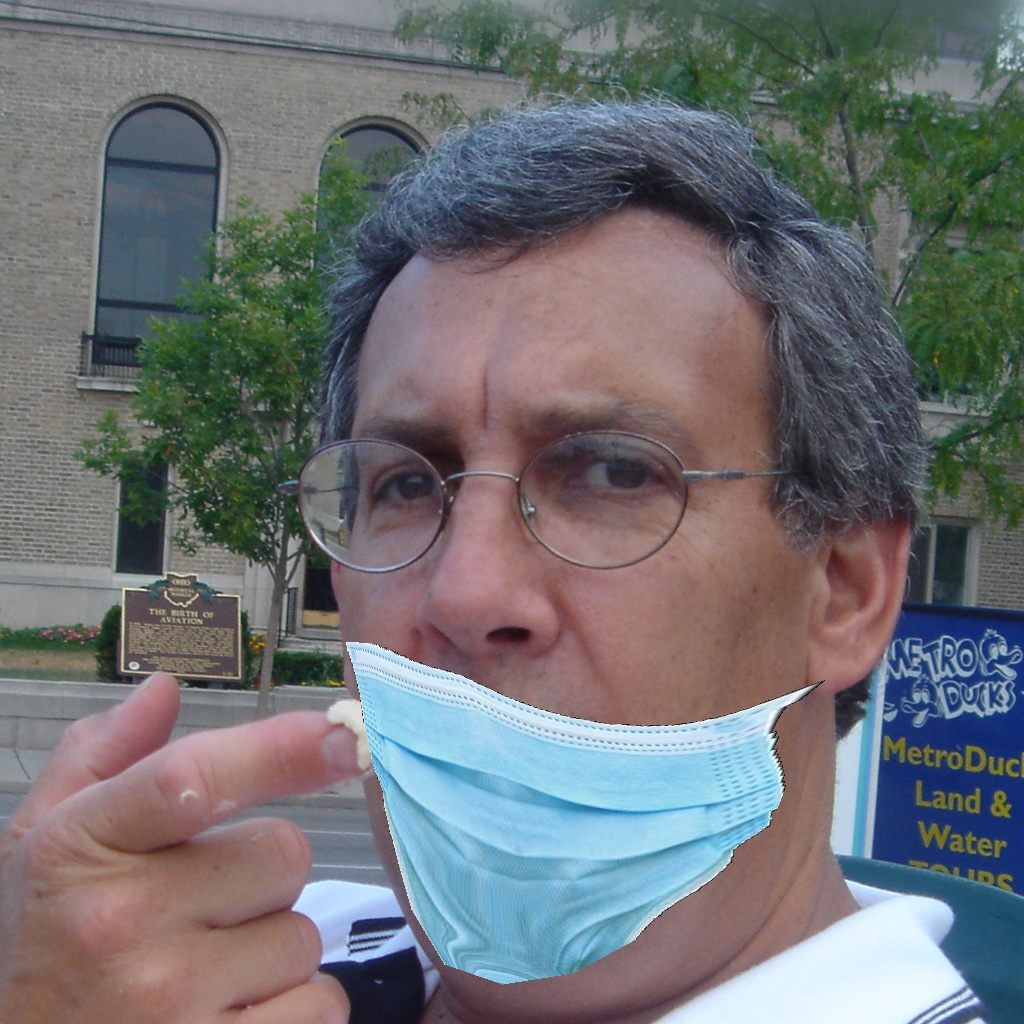mascarilla_mal_puesta: (319, 355, 832, 1003)
